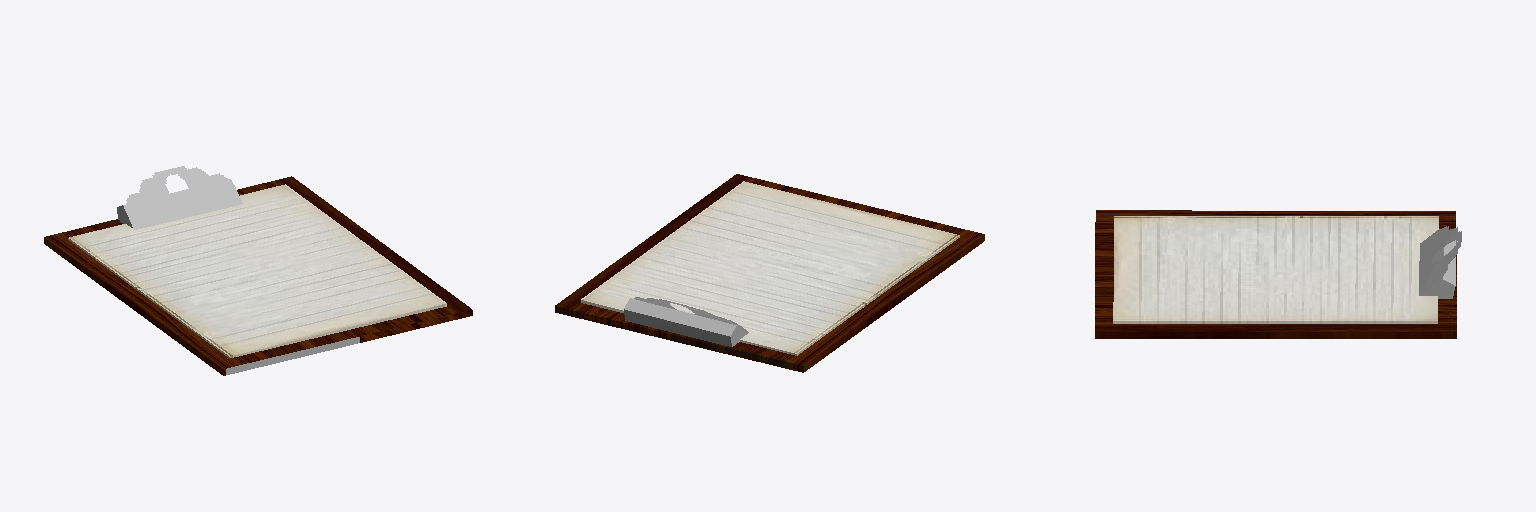
3 views of the same model, side by side, from view 1: azimuth 30°, elevation 25°; view 2: azimuth 150°, elevation 25°; view 3: azimuth 270°, elevation 25° (orthographic).
Parts seen in each view (by area): view 1: paper, cilpbord; view 2: paper, cilpbord; view 3: paper, cilpbord.
Boxes of the visible parts, <box> form: paper: <box>68,184,446,358</box>; cilpbord: <box>44,166,472,375</box>; paper: <box>581,181,959,355</box>; cilpbord: <box>555,174,984,372</box>; paper: <box>1113,216,1438,323</box>; cilpbord: <box>1095,210,1461,338</box>.
Size of the model in its own units: 18.8 by 3.2 by 24.17.
Materials: 2 (2 with a texture image).